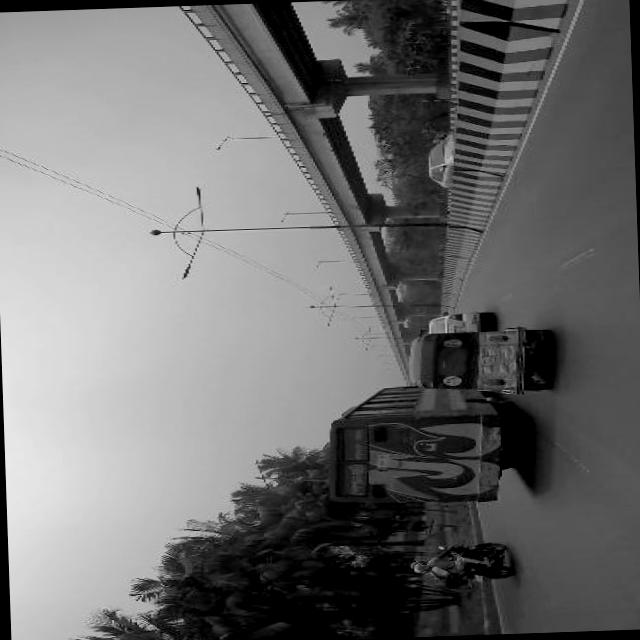bus: (328, 384, 514, 506)
car: (420, 134, 452, 190), (424, 310, 490, 336)
motorcycle: (406, 325, 545, 394), (439, 534, 511, 592)
